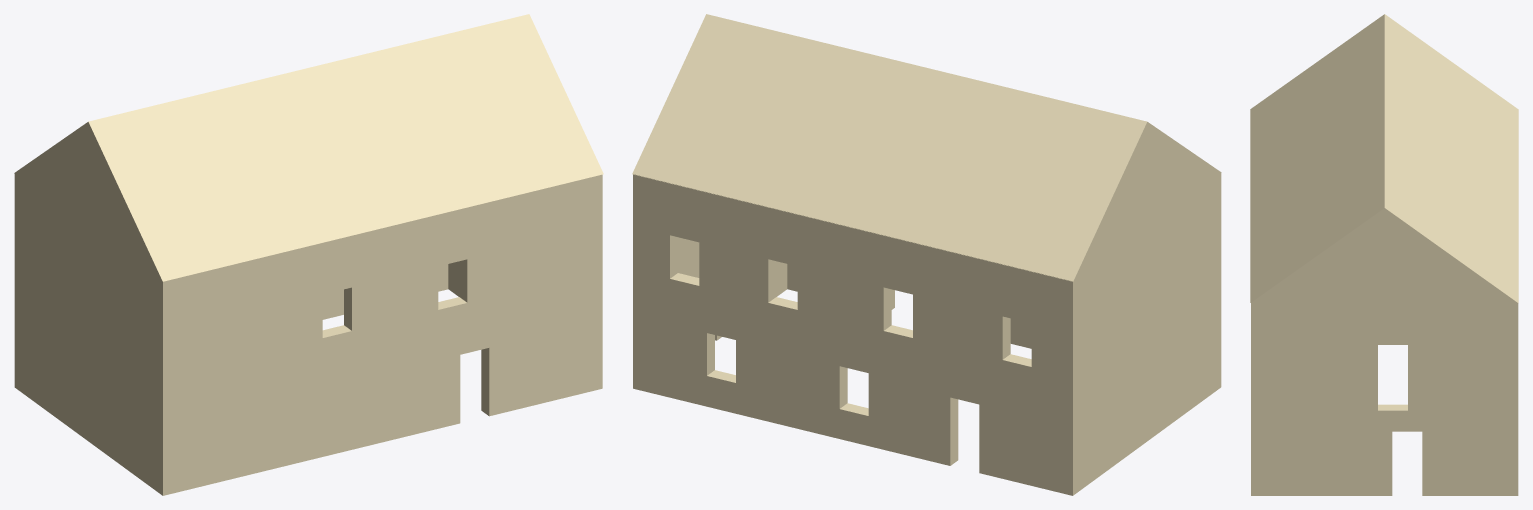
File: external walls room area.fbx
The picture shows the model from 3 angles, left to right: view 1: azimuth 30°, elevation 25°; view 2: azimuth 150°, elevation 25°; view 3: azimuth 270°, elevation 25°; orthographic projection. The views are drawn at different scales.
Visible parts, largest first — view 1: muri, sottotetto; view 2: muri, sottotetto; view 3: sottotetto, muri.
Part boxes in pixels (box(x1,y1,x2,y2)): muri: box(14, 174, 602, 495); sottotetto: box(14, 14, 603, 281); muri: box(633, 173, 1221, 495); sottotetto: box(632, 14, 1221, 281); sottotetto: box(1250, 14, 1518, 303); muri: box(1251, 109, 1518, 495).
Bounding box in the file's own units: 1270 × 880 × 742.
